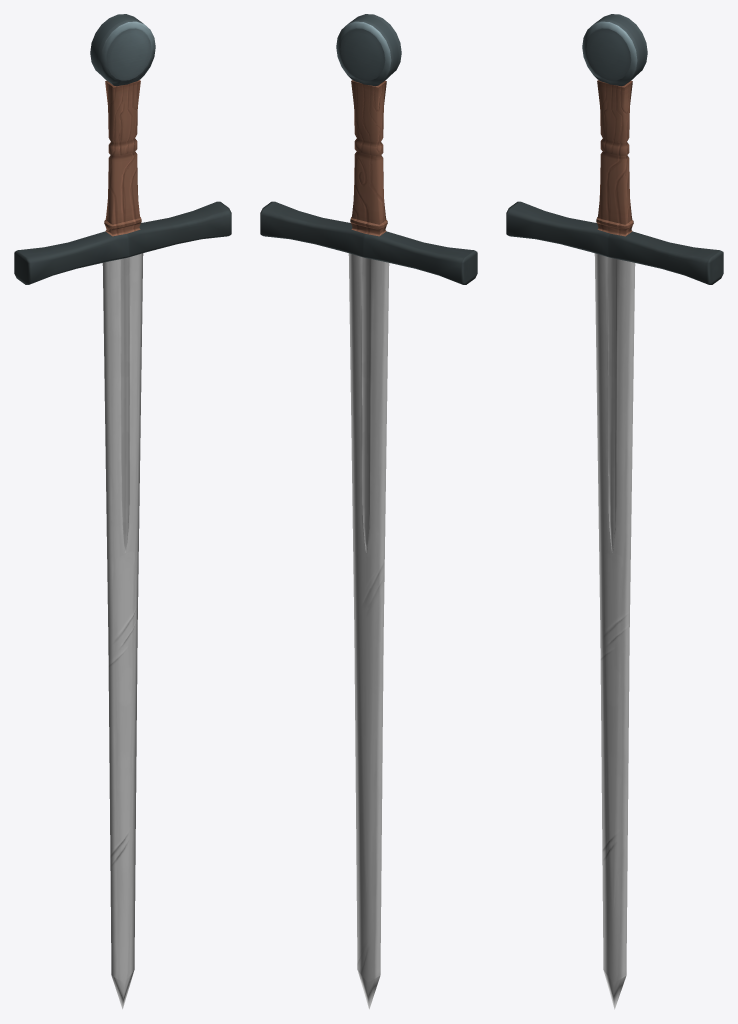
File: sword final Mythe.fbx
3 renders of one model, left to right at view 1: azimuth 30°, elevation 25°; view 2: azimuth 150°, elevation 25°; view 3: azimuth 330°, elevation 25°, orthographic.
Parts seen in each view (by area): view 1: pCube1, pCube2, pCylinder1; view 2: pCube1, pCube2, pCylinder1; view 3: pCube1, pCube2, pCylinder1.
Part boxes in pixels (left/top/right/bottom): pCube1: left=102, top=253, right=143, bottom=1009; pCube2: left=14, top=80, right=231, bottom=284; pCylinder1: left=90, top=14, right=155, bottom=86; pCube1: left=348, top=253, right=389, bottom=1009; pCube2: left=260, top=80, right=477, bottom=284; pCylinder1: left=336, top=14, right=401, bottom=86; pCube1: left=594, top=253, right=635, bottom=1009; pCube2: left=506, top=80, right=723, bottom=284; pCylinder1: left=582, top=14, right=647, bottom=86.
Size of the model in its own units: 1.72 by 7.98 by 0.2372.
3 materials, 3 textured.
